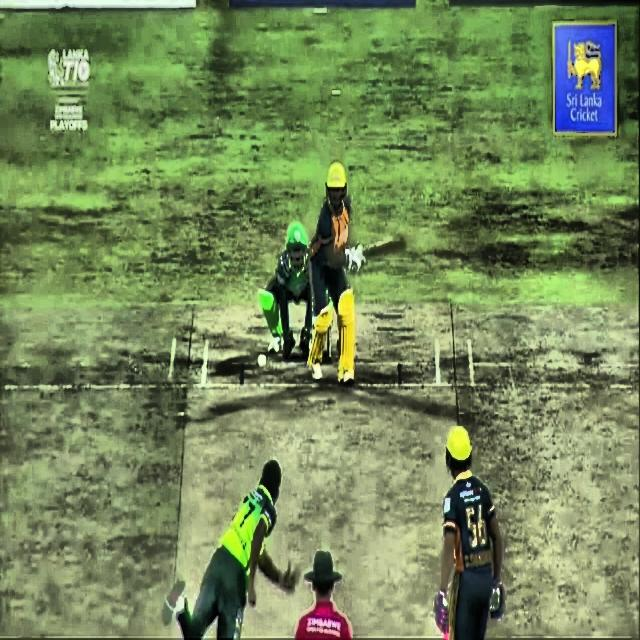Right-stump: (327, 329, 331, 360)
